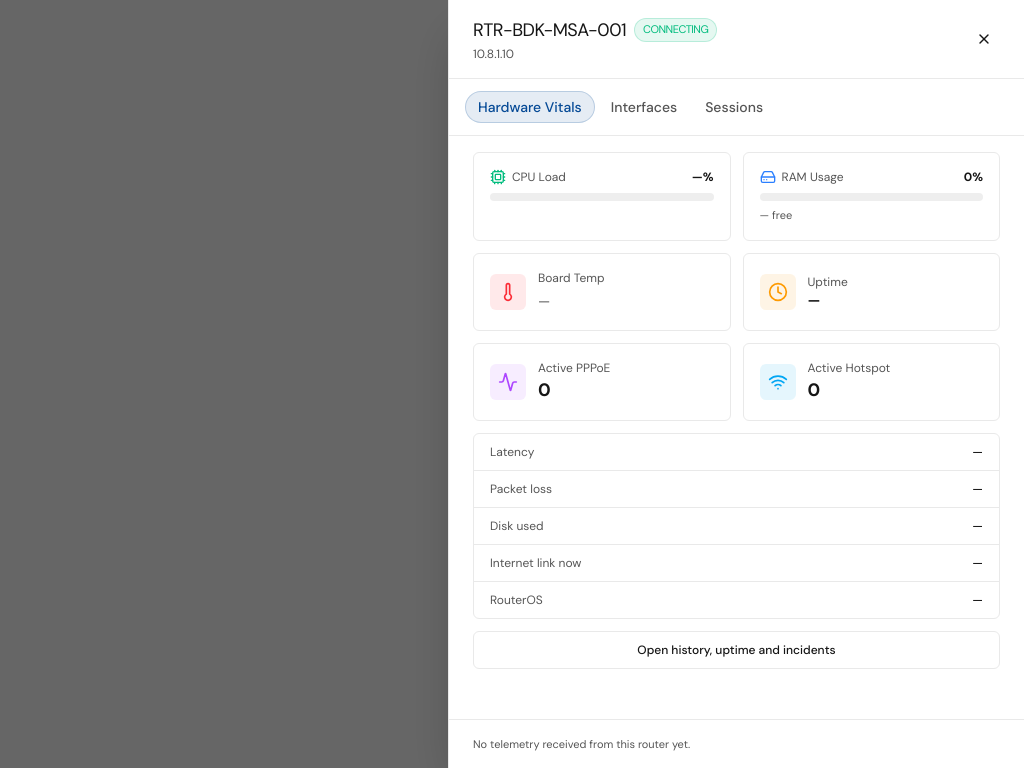
RouterTelemetryDrawer › surfaces the router's error when interfaces cannot be read
The image size is (1024, 768).
Click the tab "interfaces": click(644, 107) [599,91,689,123]
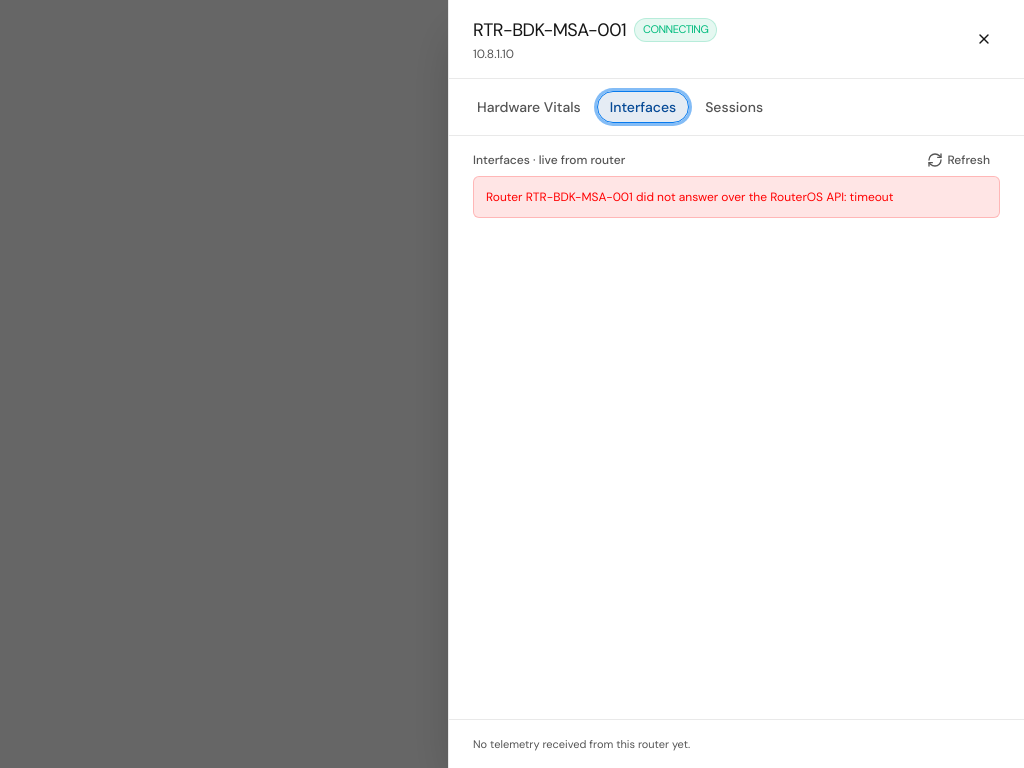
Result: the text "did not answer over the RouterOS API" is shown at [486,189,893,205]
